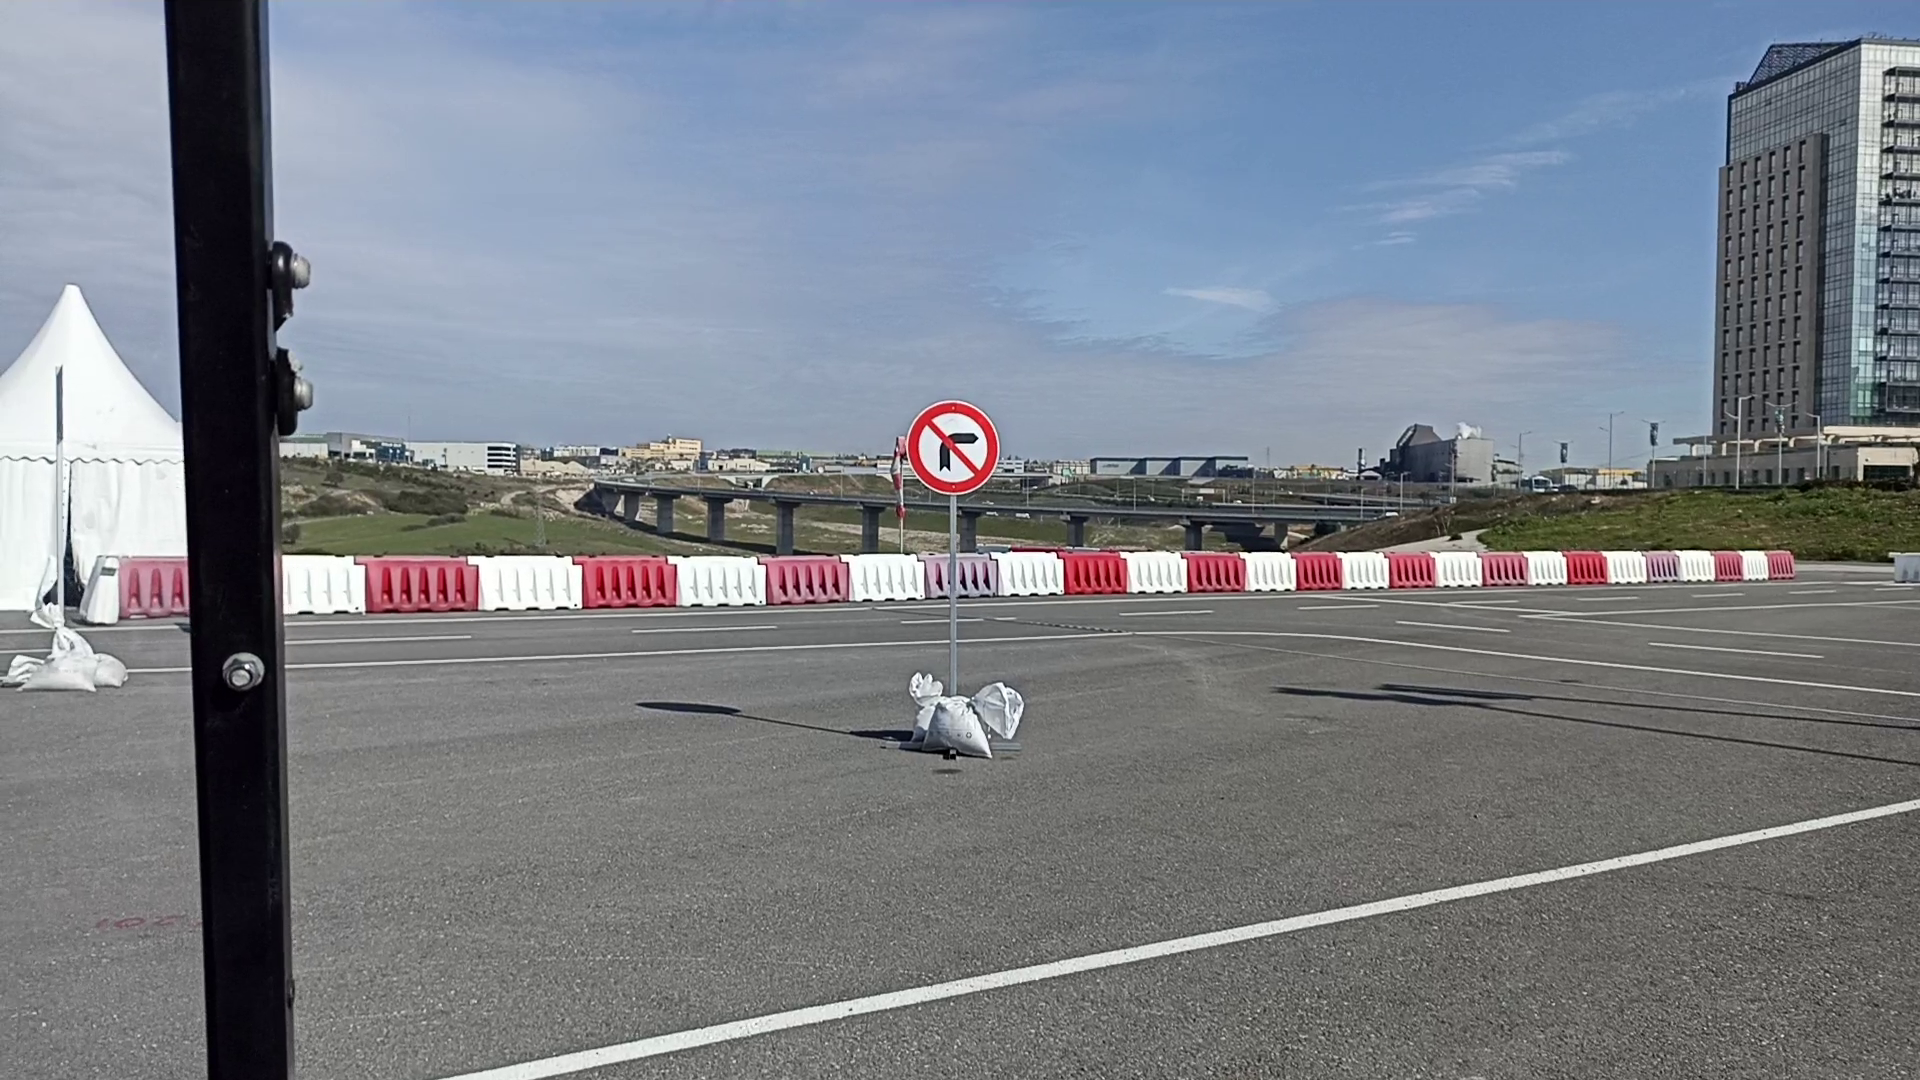noleftturn: (905, 398, 1001, 496)
